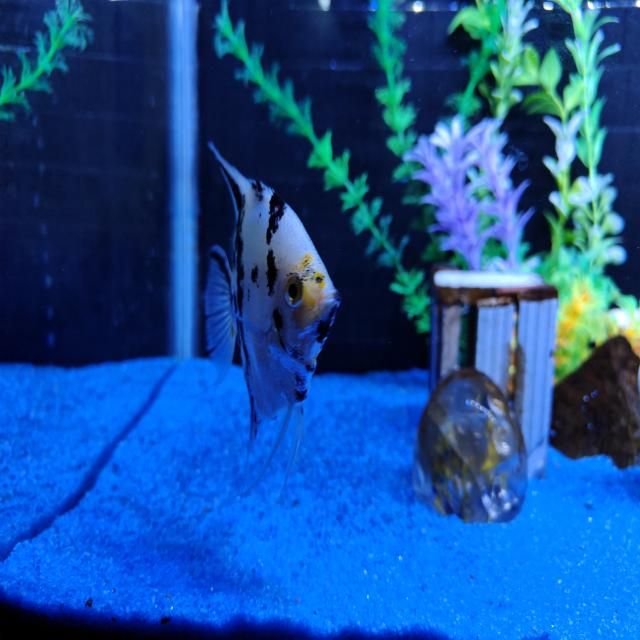Fish: (205, 143, 340, 493)
